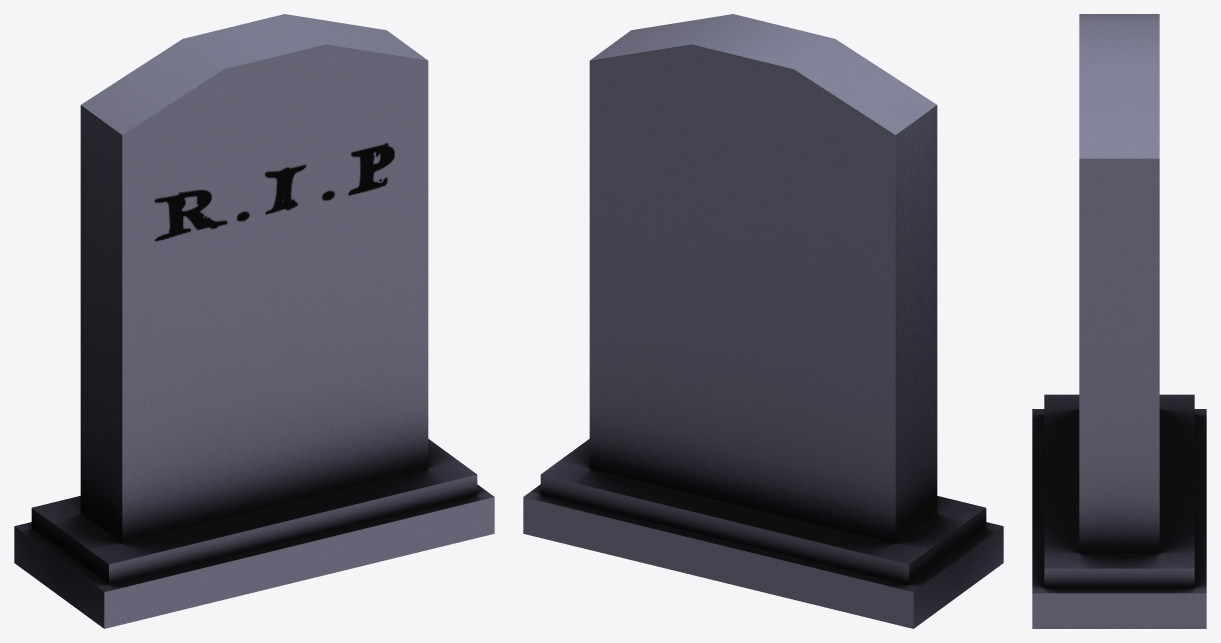
File: Tomb 4.FBX
3 views of the same model, side by side, from view 1: azimuth 30°, elevation 25°; view 2: azimuth 150°, elevation 25°; view 3: azimuth 270°, elevation 25° (orthographic). The views are drawn at different scales.
Visible parts, largest first — view 1: Box001; view 2: Box001; view 3: Box001.
Boxes of the visible parts, <box> form: Box001: <box>14,14,494,628</box>; Box001: <box>523,14,1003,628</box>; Box001: <box>1032,14,1206,628</box>.
Bounding box in the file's own units: 50 × 62.03 × 20.
1 material, 1 textured.
